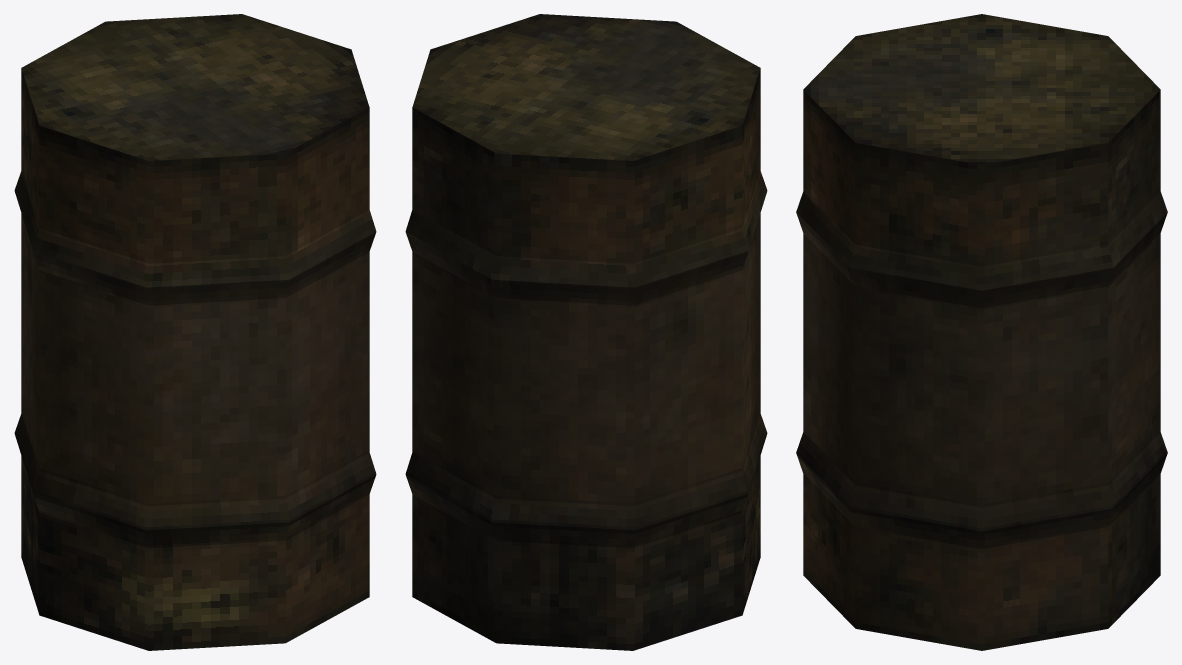
The model's file is metal_barrel_fps_2.glb.
The picture shows the model from 3 angles, left to right: view 1: azimuth 30°, elevation 25°; view 2: azimuth 150°, elevation 25°; view 3: azimuth 270°, elevation 25°; orthographic projection.
Parts seen in each view (by area): view 1: metal_barrel_fps_2; view 2: metal_barrel_fps_2; view 3: metal_barrel_fps_2.
Part boxes in pixels (x1,y1,x2,y2): metal_barrel_fps_2: [14, 14, 376, 650]; metal_barrel_fps_2: [405, 14, 767, 650]; metal_barrel_fps_2: [796, 14, 1167, 650].
Size of the model in its own units: 0.6739 by 0.972 by 0.6739.
Materials: 1 (1 with a texture image).
